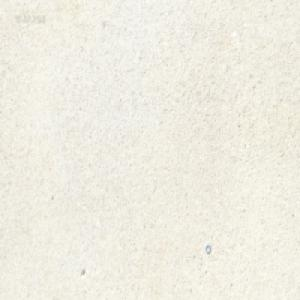Washer: (205, 243, 210, 254)
